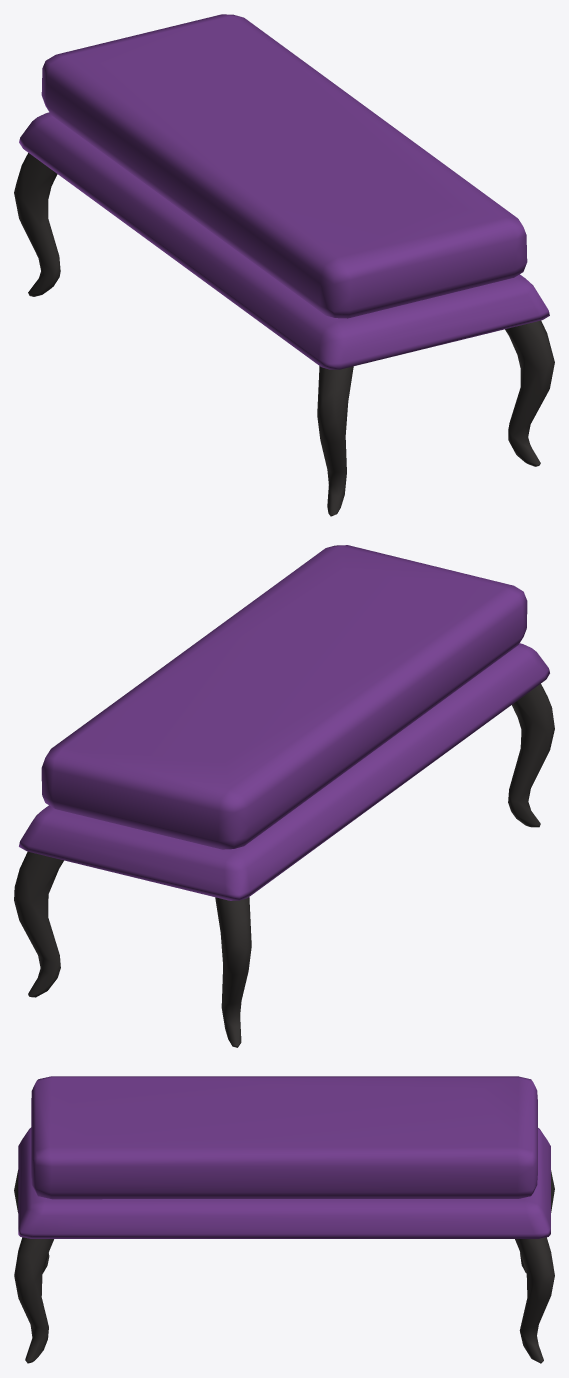
Rendered from footstool_01_purple.fbx.
The picture shows the model from 3 angles, top to bottom: view 1: azimuth 30°, elevation 25°; view 2: azimuth 150°, elevation 25°; view 3: azimuth 270°, elevation 25°; orthographic projection. The views are drawn at different scales.
Visible parts, largest first — view 1: footstool_01_purple; view 2: footstool_01_purple; view 3: footstool_01_purple.
Boxes of the visible parts, x1,y1,x2,y2 form: footstool_01_purple: (14,14,554,516); footstool_01_purple: (14,545,554,1047); footstool_01_purple: (14,1076,554,1363).
Size of the model in its own units: 46.53 by 46.52 by 109.
Materials: 2 (2 with a texture image).
